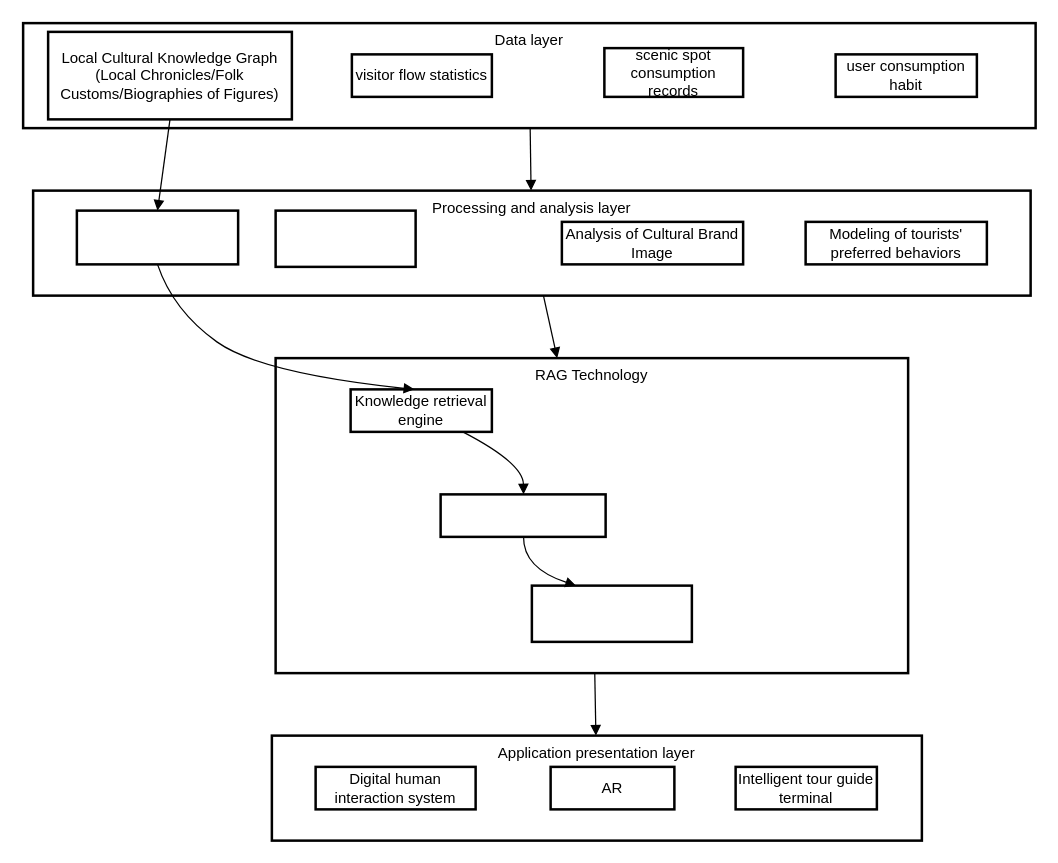
Image size: 1058x863. Some labels were removed from this diagram. Here are the shapes that lost their labels. From the top down, the centre of each, then its label:
At (x=157, y=237): "Construction of the cultural ontology library".
At (x=345, y=238): "Identification of cultural and tourism hotspots".
At (x=522, y=515): "DeepSeek".
At (x=611, y=613): "Context enhancement generation".
